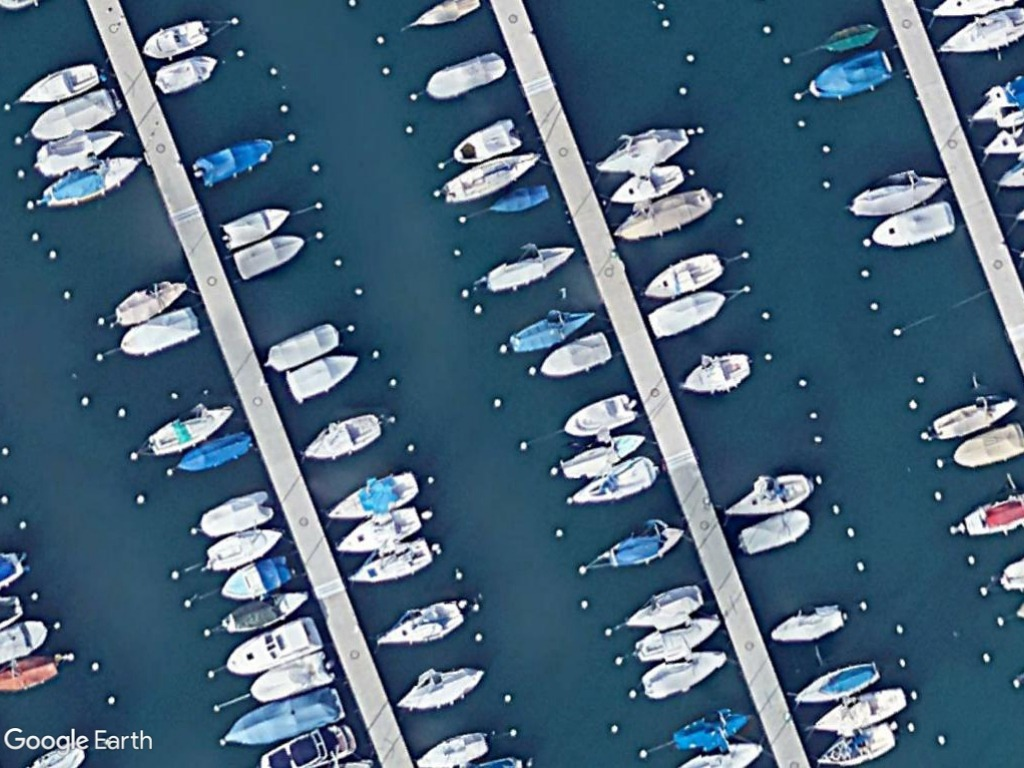boat: (221, 686, 344, 754), (222, 615, 321, 680), (37, 153, 143, 213), (612, 184, 714, 246), (327, 465, 424, 529), (333, 501, 427, 560), (440, 150, 543, 203), (144, 402, 238, 460), (243, 649, 338, 706), (594, 123, 693, 177), (481, 242, 578, 296), (813, 681, 910, 735), (28, 88, 121, 144), (638, 648, 729, 705), (848, 172, 953, 221), (572, 454, 662, 509), (588, 523, 685, 574), (300, 410, 386, 467), (34, 125, 123, 180), (118, 304, 202, 361), (189, 135, 277, 189), (634, 612, 722, 666), (420, 50, 509, 103), (722, 470, 814, 521), (641, 250, 729, 303), (807, 47, 894, 99), (218, 588, 314, 635), (347, 535, 435, 586), (507, 305, 598, 354), (622, 579, 703, 634), (399, 662, 483, 715), (793, 659, 882, 709), (871, 196, 959, 246), (931, 389, 1015, 441), (198, 526, 283, 577), (373, 599, 463, 647), (198, 485, 272, 543), (559, 431, 648, 479), (173, 425, 255, 477), (647, 286, 727, 339), (12, 60, 102, 107), (935, 7, 1024, 54), (811, 720, 901, 766), (282, 351, 363, 402), (265, 323, 342, 376), (539, 329, 616, 382), (734, 506, 813, 557), (218, 552, 294, 605), (109, 279, 191, 327), (677, 349, 756, 397), (230, 233, 307, 282), (559, 392, 636, 441), (767, 601, 847, 648), (216, 203, 294, 251), (448, 117, 522, 167), (671, 706, 748, 753), (608, 160, 685, 206), (951, 417, 1024, 464), (140, 15, 212, 62), (415, 727, 490, 768), (155, 50, 220, 95), (485, 179, 550, 218), (819, 23, 884, 55)
